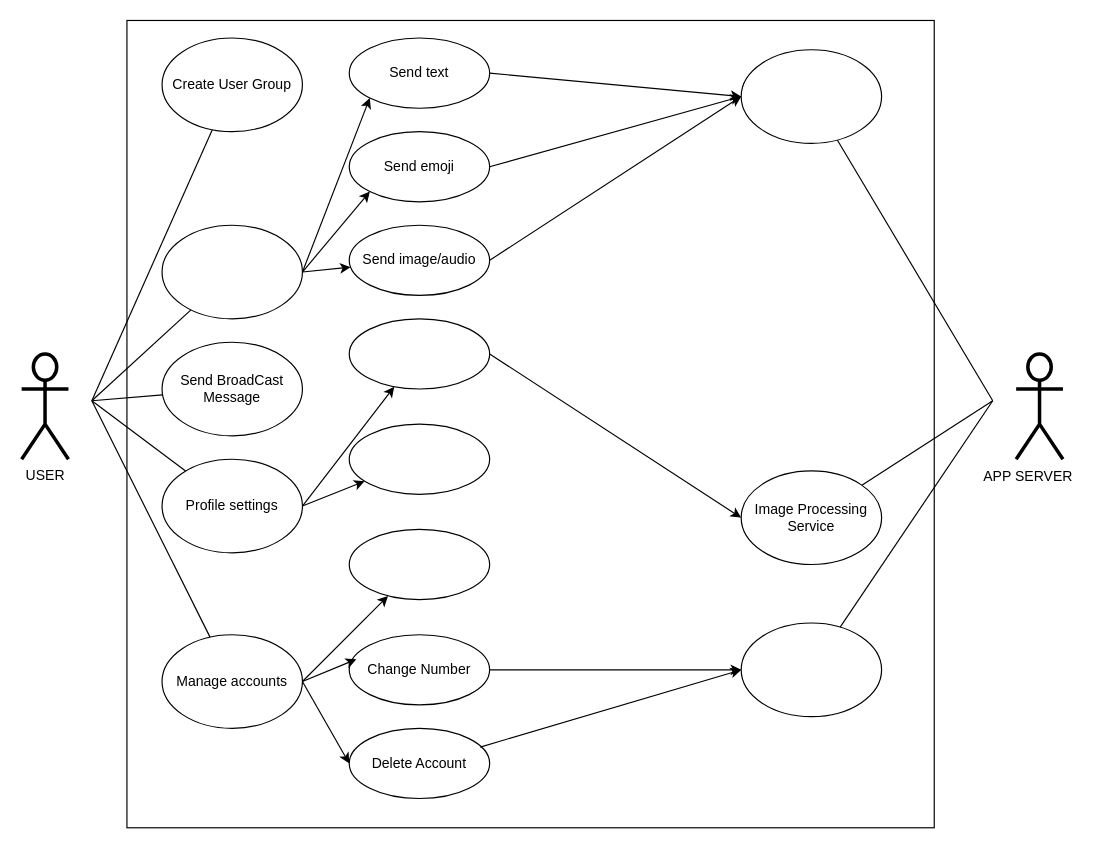
The diagram is 1107 pixels wide and 848 high, and some of its shapes have lost their labels. The shapes that lost their labels are listed below. From the top down, each one's centre as x and y in pixels, then its label:
pixel 811 96: Client/User Interface
pixel 231 271: Chat with a contact
pixel 419 353: Edit Profile Picture
pixel 419 458: Edit display Status
pixel 419 564: Privacy Settings
pixel 811 669: Logging and monitoring
